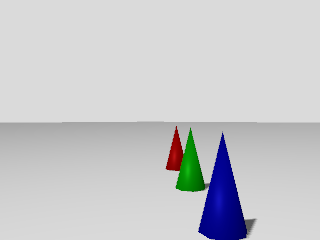blue: (197, 131, 247, 239)
green: (175, 128, 204, 192)
red: (164, 124, 184, 172)
